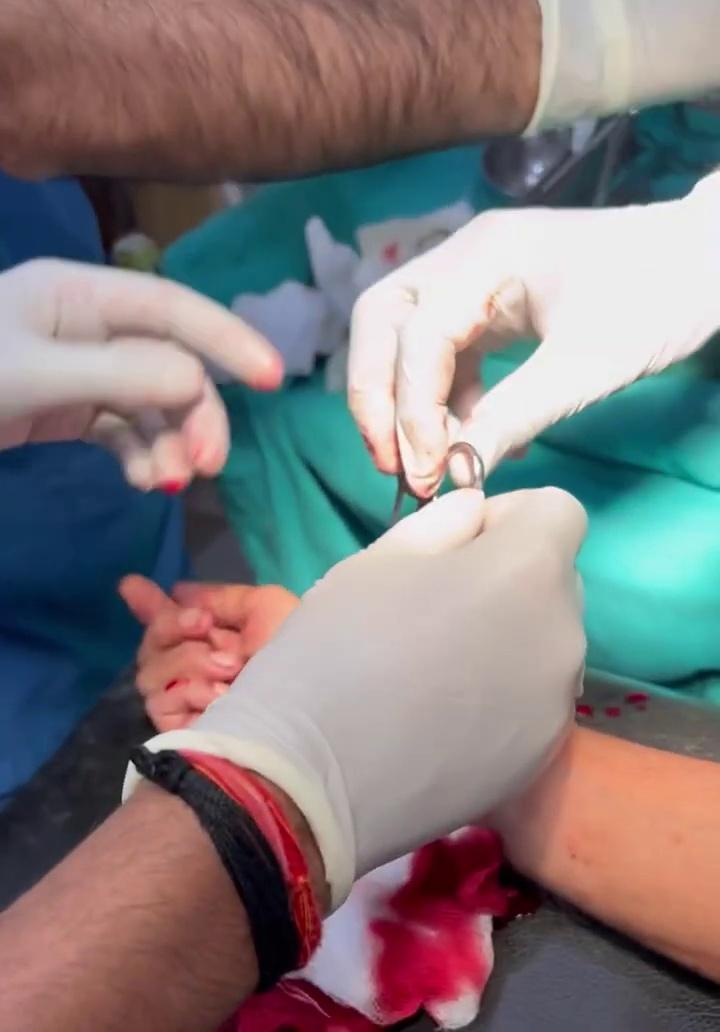Fire: (365, 826, 541, 1025), (576, 689, 648, 719)
